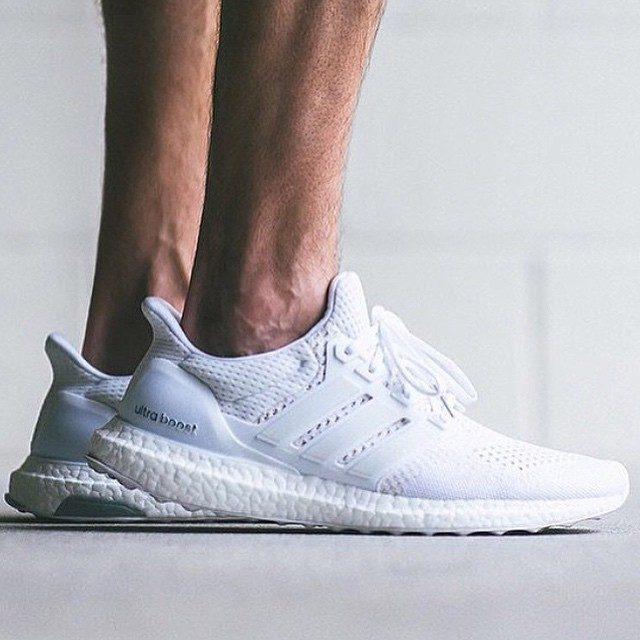sneaker: (82, 259, 638, 547), (4, 270, 151, 544)
